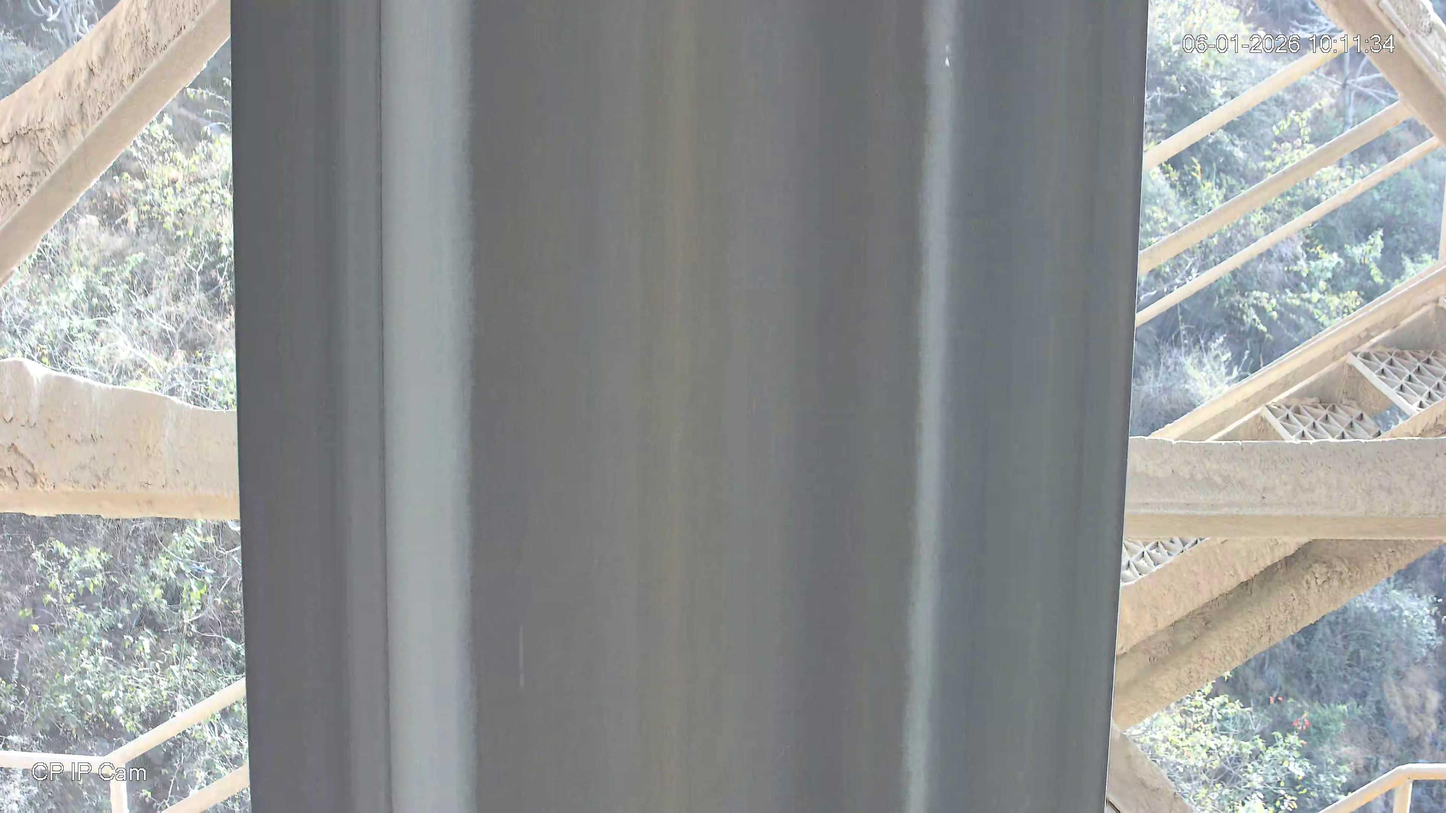belt_roi: (230, 0, 1152, 812)
